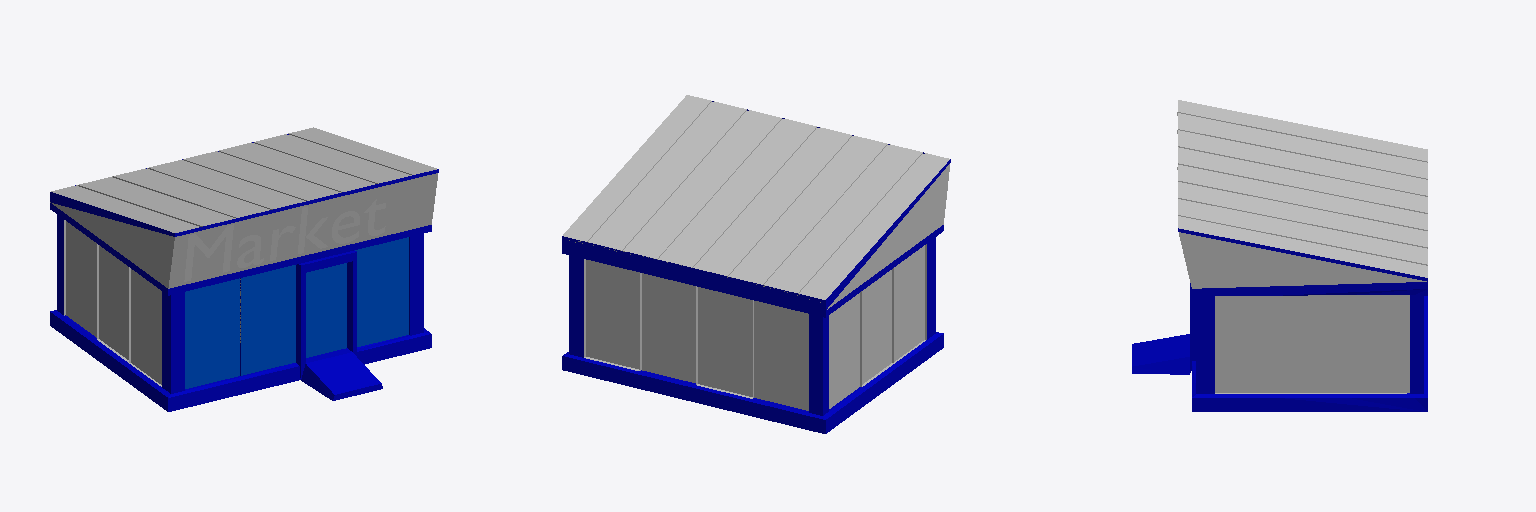
Rendered from large_building06.obj.
The picture shows the model from 3 angles: view 1: azimuth 30°, elevation 25°; view 2: azimuth 150°, elevation 25°; view 3: azimuth 270°, elevation 25°; orthographic projection.
Visible parts, largest first — view 1: Shop_Malla.003_Shop_Malla.008, Texto_Texto.001; view 2: Shop_Malla.003_Shop_Malla.008; view 3: Shop_Malla.003_Shop_Malla.008.
Part boxes in pixels (left/top/right/bottom): Shop_Malla.003_Shop_Malla.008: left=50, top=127, right=438, bottom=411; Texto_Texto.001: left=184, top=199, right=385, bottom=281; Shop_Malla.003_Shop_Malla.008: left=562, top=95, right=950, bottom=433; Shop_Malla.003_Shop_Malla.008: left=1132, top=100, right=1427, bottom=411.
Bounding box in the file's own units: 1.26 × 0.8388 × 1.23.